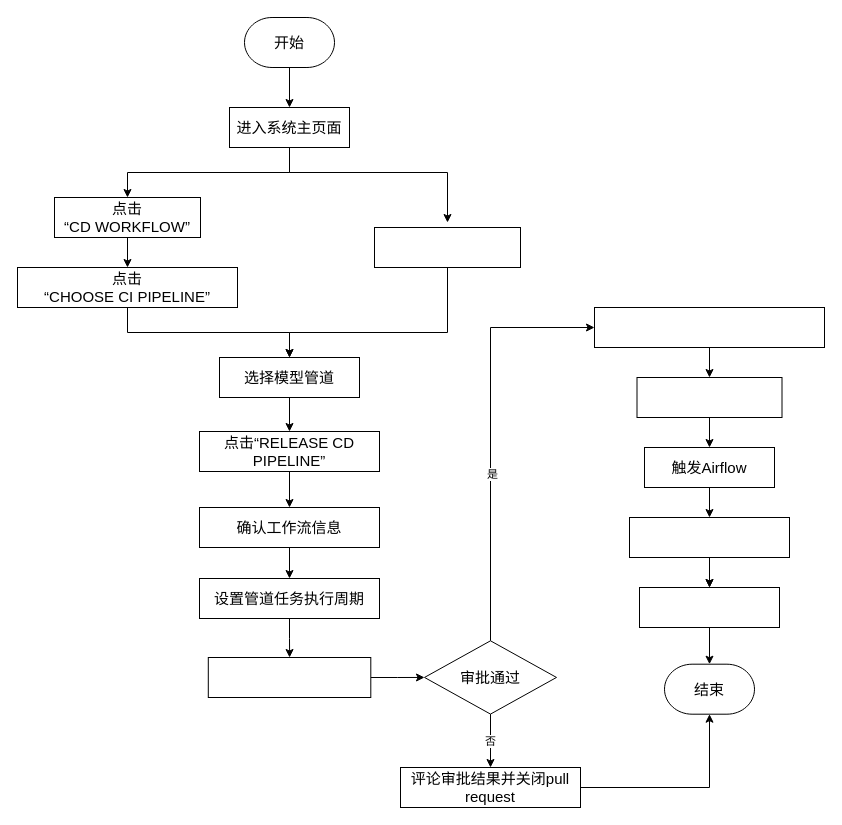
Some shapes in this 842 by 825 pixel diagram are drawn without their labels. Here are the shapes that lost their labels. From the top down, the centre of each, then its label:
the point at 447,247: 点击 “CI WORKFLOW”
the point at 709,327: 在pull request下添加审批结果
the point at 709,397: Jenkins感知评论
the point at 709,537: 生成并定期自动触发管道交付任务的DAG
the point at 709,607: 更新管道交付任务查询页面信息
the point at 289,677: 在pull request下评论，申请执行管道交付任务
